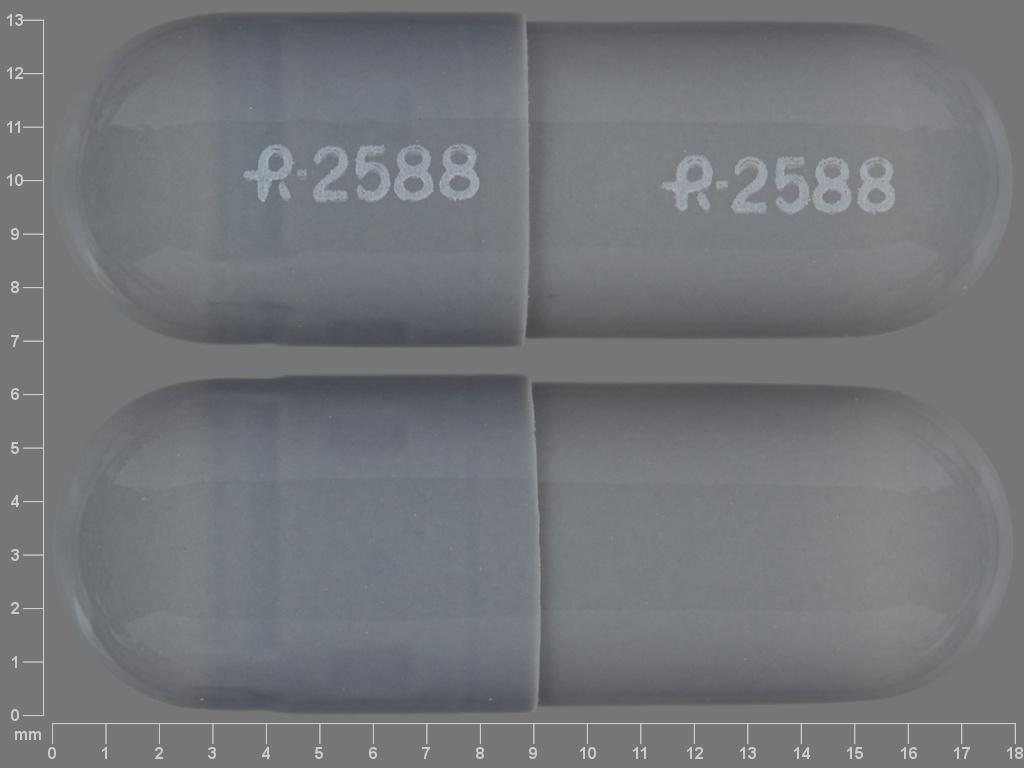Pill: (48, 0, 1024, 356), (50, 371, 1024, 720)
